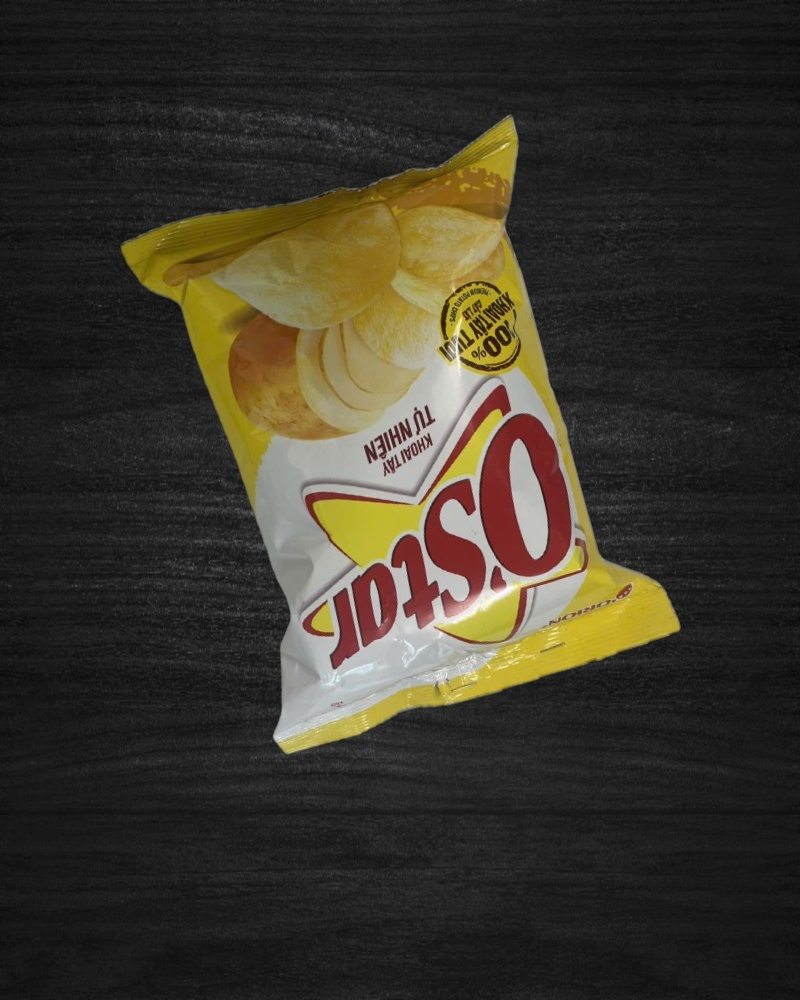Snack cua: (120, 113, 683, 755)
